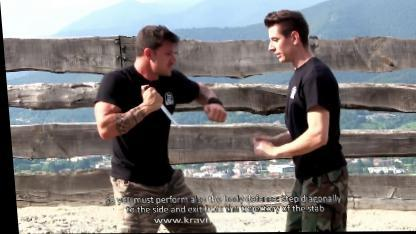knife: (138, 83, 180, 131)
